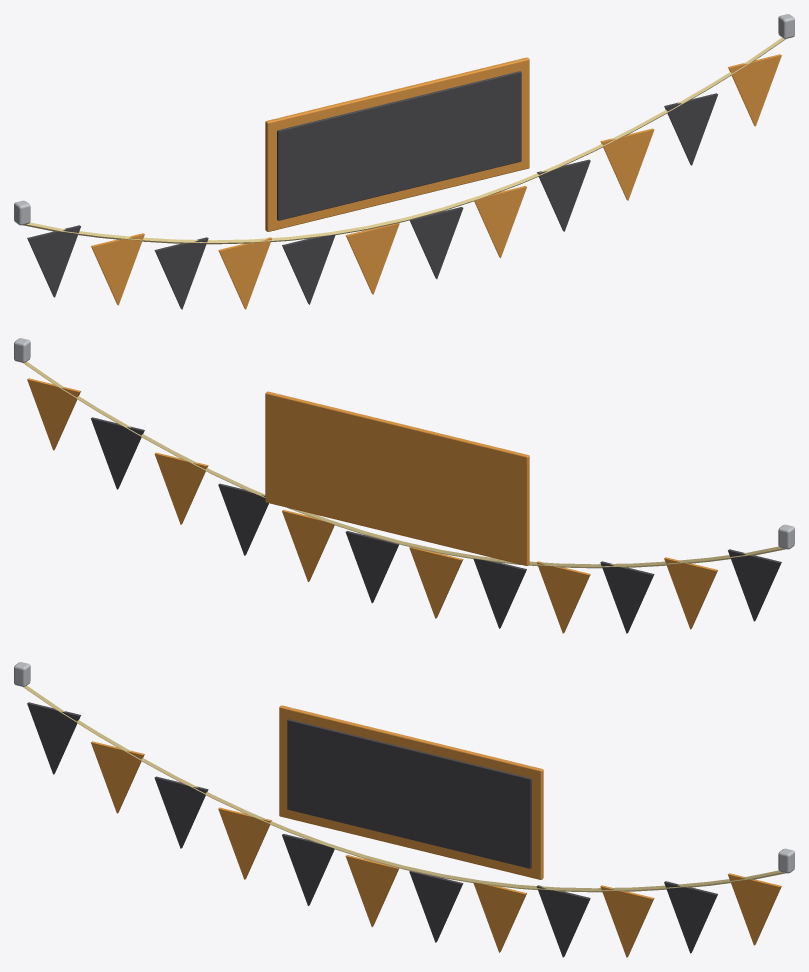
File: halloween-slasher-street-halloween-pennant-banner-e9003fa9.glb
3 renders of one model, top to bottom at view 1: azimuth 30°, elevation 25°; view 2: azimuth 150°, elevation 25°; view 3: azimuth 330°, elevation 25°, orthographic.
Parts seen in each view (by area): view 1: halloween-pennant-banner; view 2: halloween-pennant-banner; view 3: halloween-pennant-banner.
Part boxes in pixels (left/top/right/bottom): halloween-pennant-banner: left=14, top=14, right=794, bottom=309; halloween-pennant-banner: left=14, top=338, right=794, bottom=633; halloween-pennant-banner: left=14, top=662, right=794, bottom=957.
Bounding box in the file's own units: 3.25 × 0.7685 × 0.0849.
